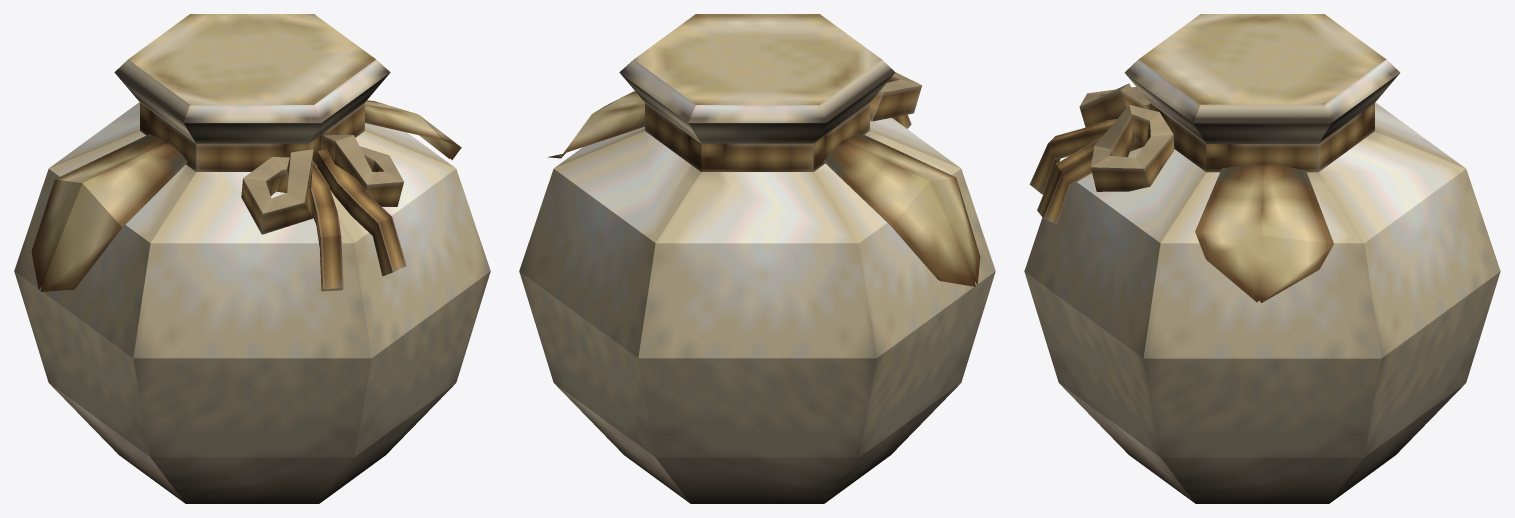
Rendered from Inside_Poly_Pottery_02.obj.
3 renders of one model, left to right at view 1: azimuth 30°, elevation 25°; view 2: azimuth 150°, elevation 25°; view 3: azimuth 270°, elevation 25°, orthographic.
Parts seen in each view (by area): view 1: Circle.001, Circle.002, Circle.003, Circle.005, Cube, Circle.004; view 2: Circle.001, Circle.002, Circle.003, Circle.004, Circle.005; view 3: Circle.001, Circle.002, Circle.003, Circle.005, Circle.004, Cube.
Boxes of the visible parts, left/top/right/bottom form: Circle.001: left=14, top=102, right=490, bottom=503; Circle.002: left=114, top=14, right=390, bottom=143; Circle.003: left=31, top=100, right=461, bottom=291; Circle.005: left=241, top=134, right=403, bottom=234; Cube: left=311, top=149, right=406, bottom=291; Circle.004: left=140, top=103, right=364, bottom=171; Circle.001: left=519, top=117, right=995, bottom=503; Circle.002: left=619, top=14, right=895, bottom=143; Circle.003: left=547, top=91, right=980, bottom=286; Circle.004: left=645, top=103, right=869, bottom=171; Circle.005: left=870, top=72, right=921, bottom=121; Circle.001: left=1024, top=102, right=1500, bottom=503; Circle.002: left=1124, top=14, right=1400, bottom=143; Circle.003: left=1195, top=162, right=1333, bottom=302; Circle.005: left=1079, top=83, right=1174, bottom=191; Circle.004: left=1150, top=103, right=1374, bottom=172; Cube: left=1029, top=104, right=1149, bottom=224.
Bounding box in the file's own units: 0.8364 × 0.7632 × 0.8329.
1 material, 1 textured.
